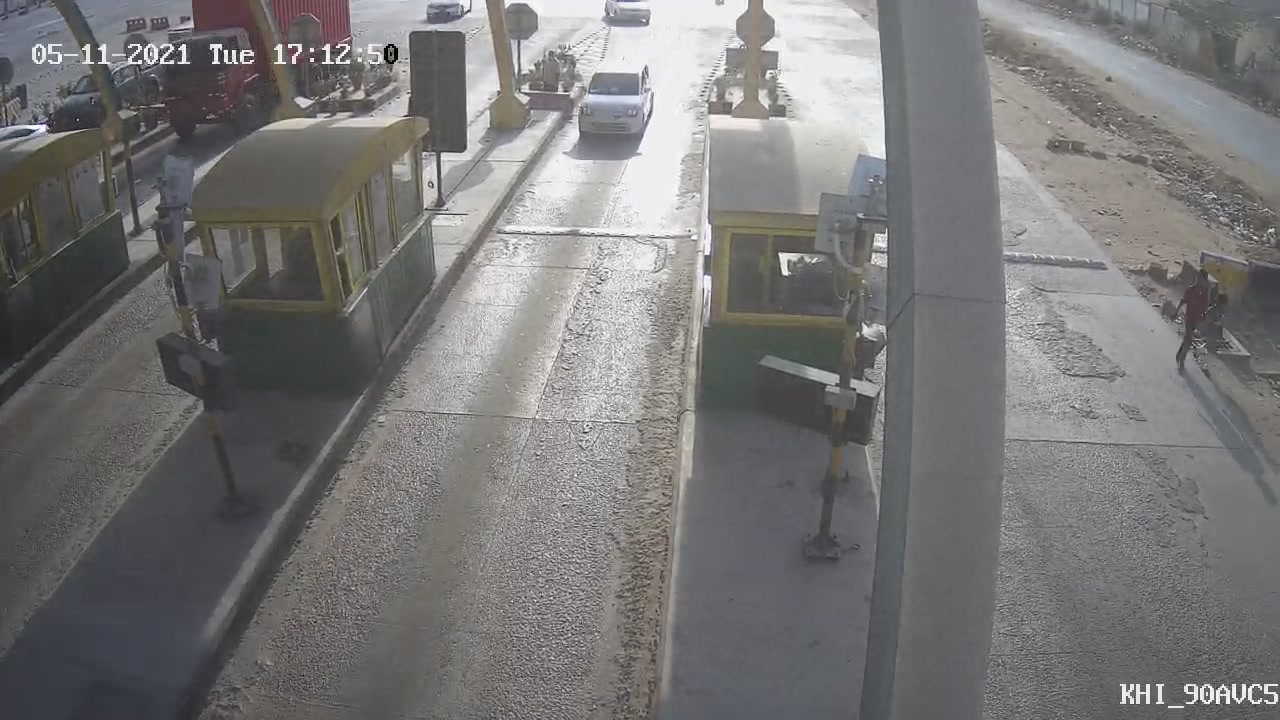F1: (556, 43, 666, 160)
